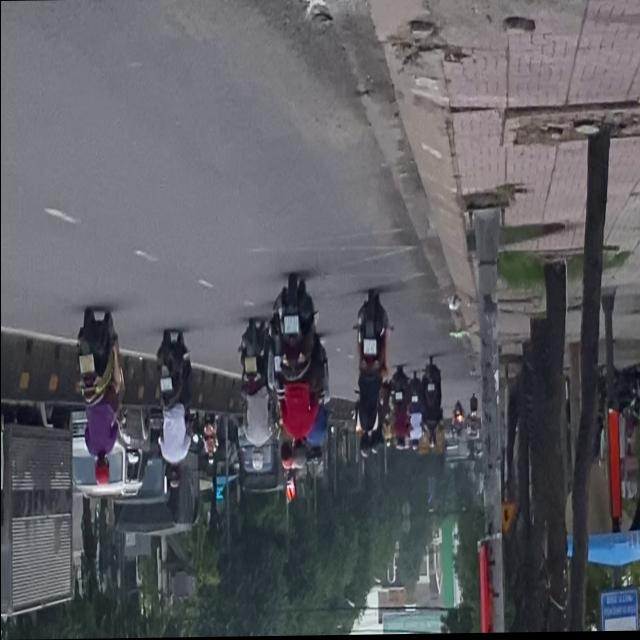helmet: (92, 458, 108, 487)
licenseplate: (75, 307, 121, 487)
nohelmet: (78, 356, 94, 375)
